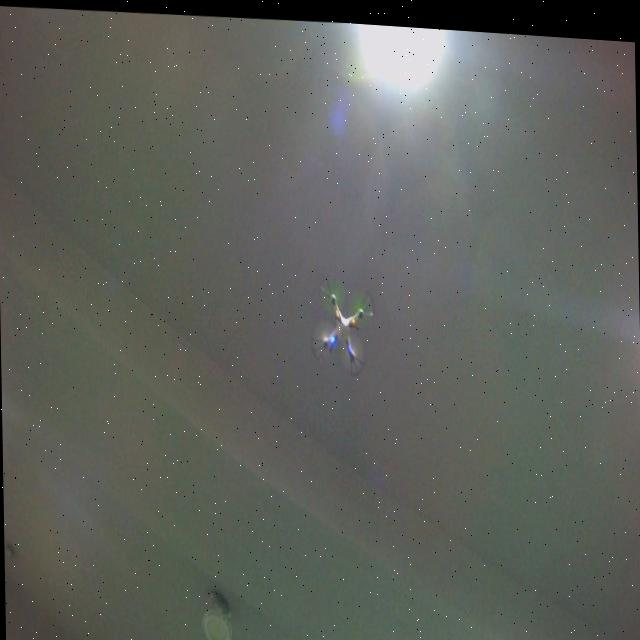drone: (306, 262, 378, 377)
